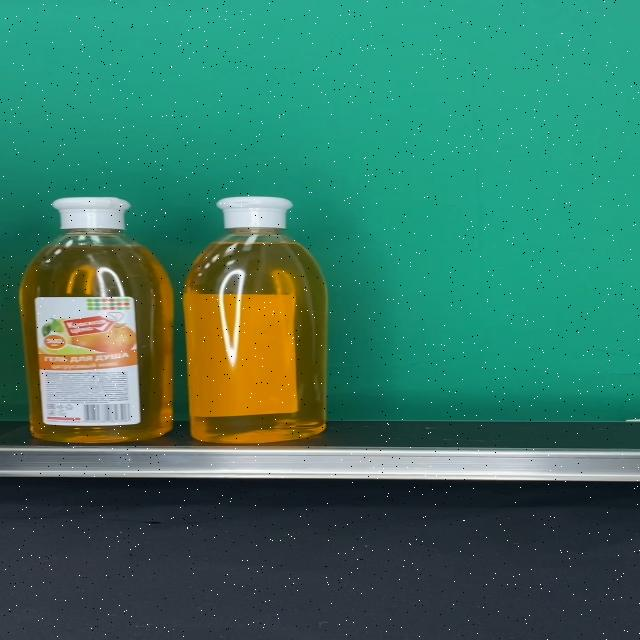Bottle: (19, 197, 174, 442), (182, 197, 326, 444)
Cap: (52, 197, 132, 230), (215, 197, 294, 229)
